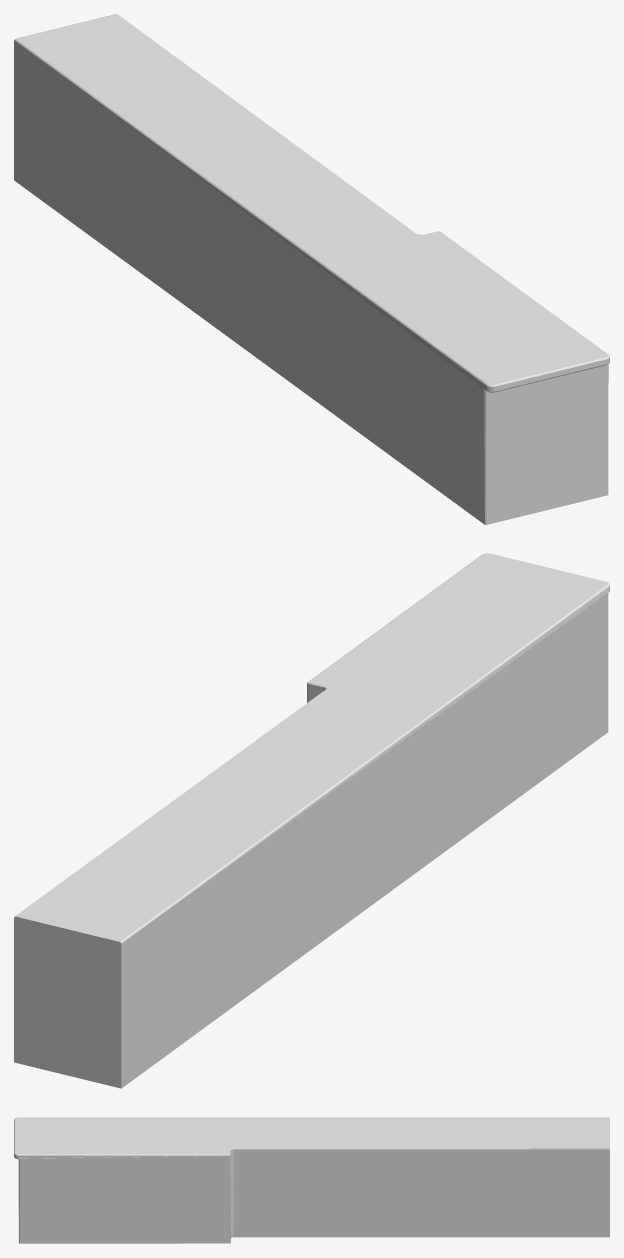
File: piano_key_A_lo.gltf
3 renders of one model, top to bottom at view 1: azimuth 30°, elevation 25°; view 2: azimuth 150°, elevation 25°; view 3: azimuth 270°, elevation 25°, orthographic. The views are drawn at different scales.
Visible parts, largest first — view 1: defaultMaterial.006; view 2: defaultMaterial.006; view 3: defaultMaterial.006.
Boxes of the visible parts, <box> form: defaultMaterial.006: <box>14,14,609,524</box>; defaultMaterial.006: <box>14,553,609,1088</box>; defaultMaterial.006: <box>14,1117,609,1243</box>.
Bounding box in the file's own units: 0.497 × 0.54 × 3.29.
1 material, 1 textured.
